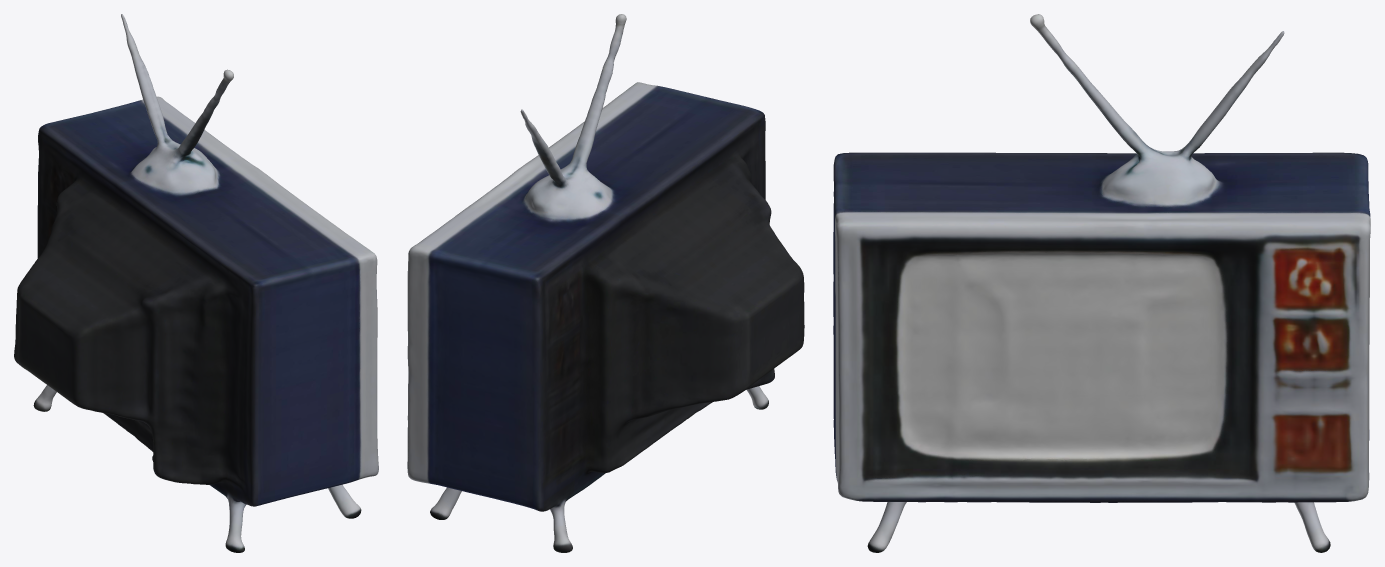
File: 7ebcae67f4d6_a_television__3d_as.fbx
The picture shows the model from 3 angles, left to right: view 1: azimuth 30°, elevation 25°; view 2: azimuth 150°, elevation 25°; view 3: azimuth 270°, elevation 25°; orthographic projection. The views are drawn at different scales.
Parts seen in each view (by area): view 1: high_poly; view 2: high_poly; view 3: high_poly.
Boxes of the visible parts, box(x1,y1,x2,y2) form: high_poly: box(14, 14, 378, 552); high_poly: box(407, 14, 804, 552); high_poly: box(833, 14, 1370, 552).
Size of the model in its own units: 60.89 by 100 by 96.51.
